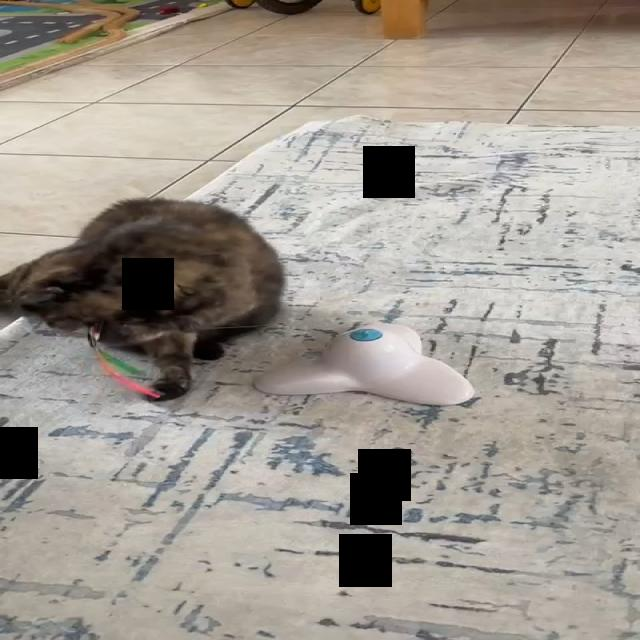authorized: (0, 195, 285, 400)
